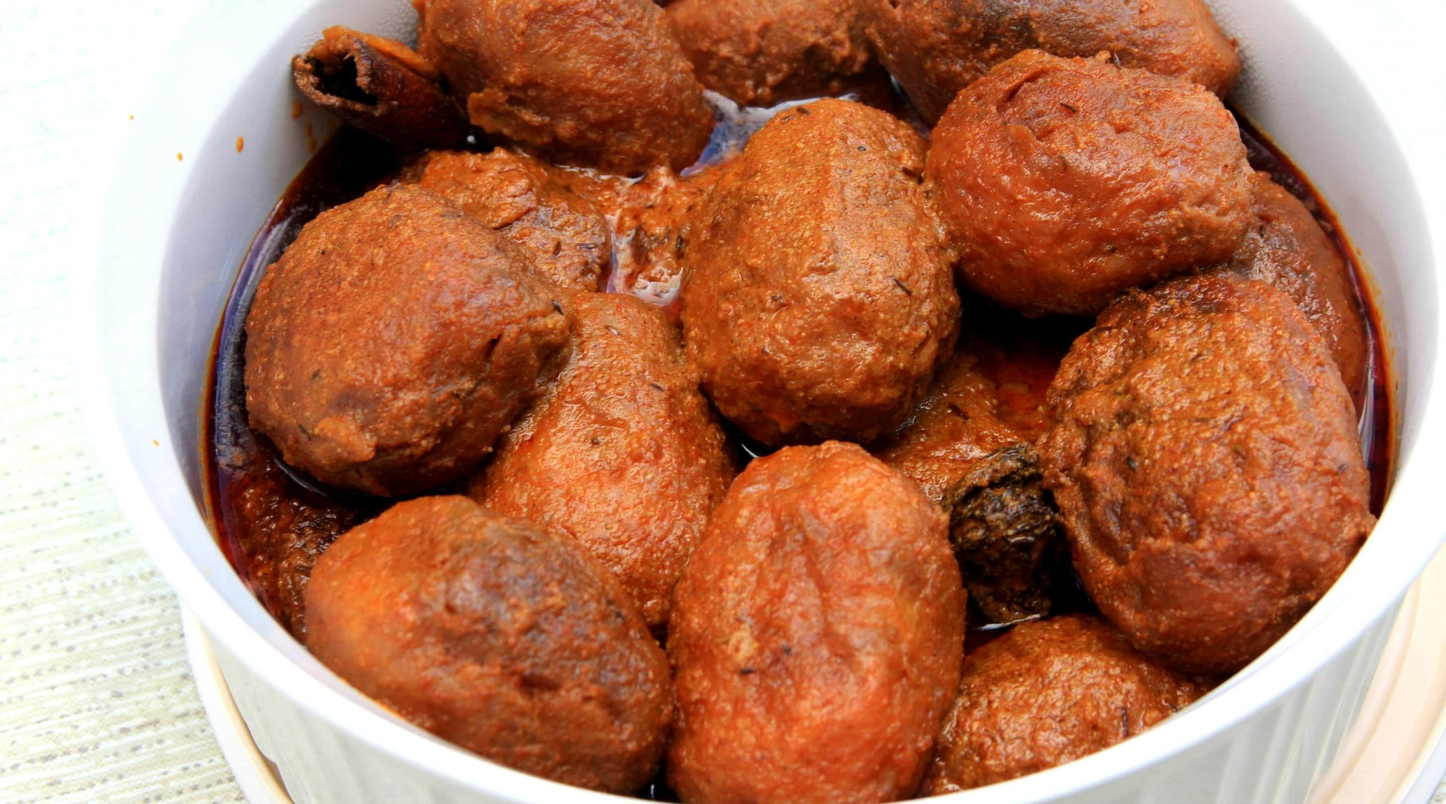DumAloo: (199, 0, 1399, 804)
